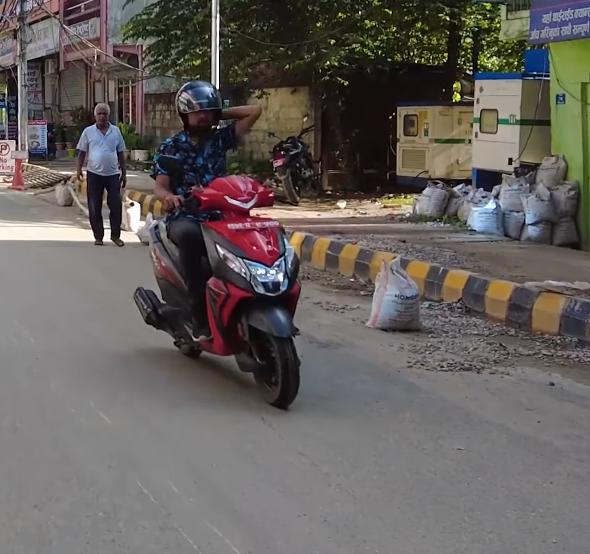scooter: (132, 167, 312, 414)
